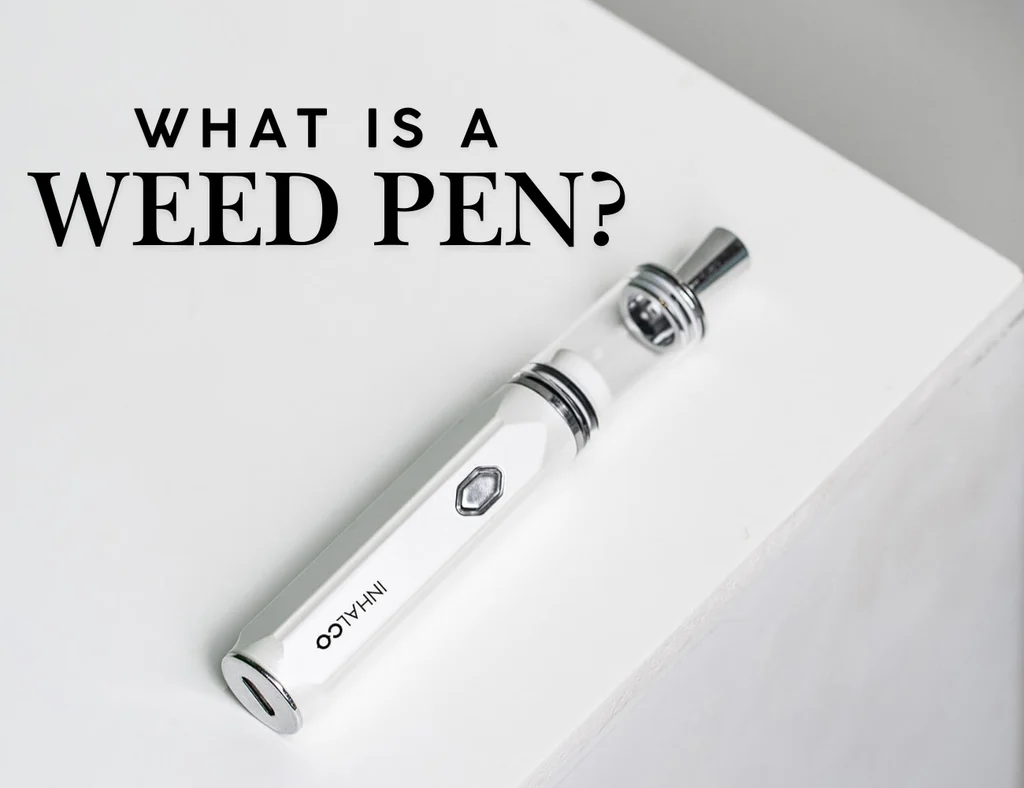weed_pen: (158, 164, 825, 745)
